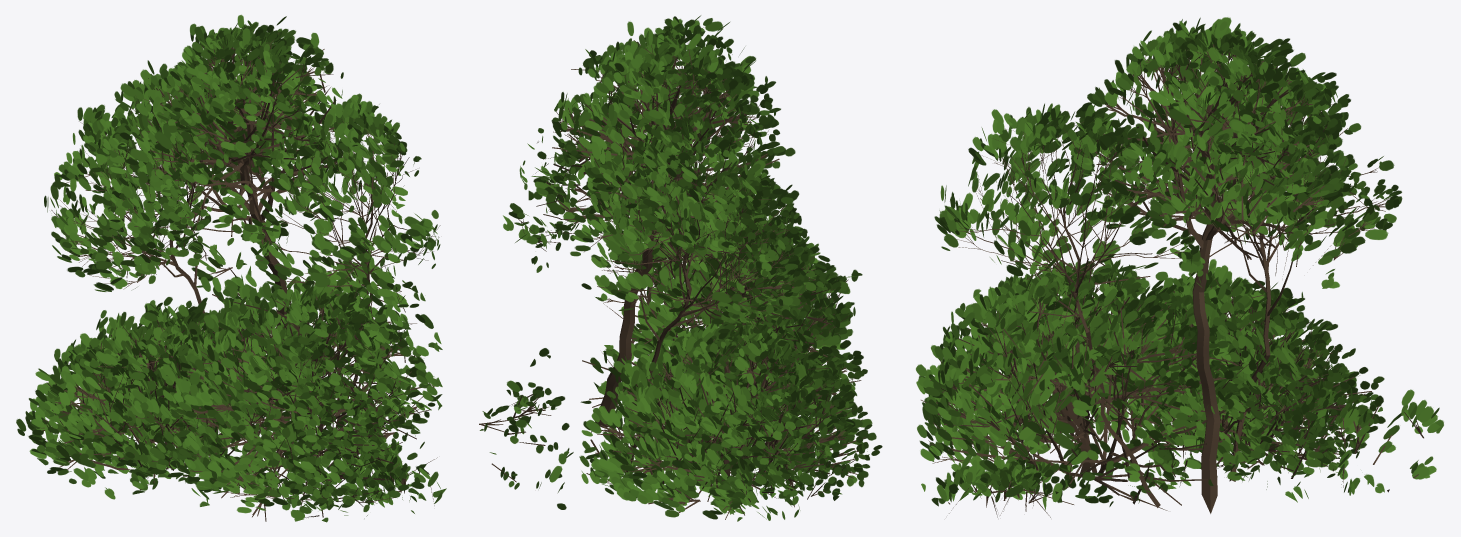
3 views of the same model, side by side, from view 1: azimuth 30°, elevation 25°; view 2: azimuth 150°, elevation 25°; view 3: azimuth 270°, elevation 25° (orthographic). The views are drawn at different scales.
Parts seen in each view (by area): view 1: oak 01.001_trunk_Mat.001_0.286; view 2: oak 01.001_trunk_Mat.001_0.286; view 3: oak 01.001_trunk_Mat.001_0.286.
Part boxes in pixels (box(x1,y1,x2,y2)): oak 01.001_trunk_Mat.001_0.286: box(16, 14, 446, 522); oak 01.001_trunk_Mat.001_0.286: box(479, 15, 882, 521); oak 01.001_trunk_Mat.001_0.286: box(916, 17, 1443, 517).
Bounding box in the file's own units: 2.77 × 3.68 × 3.77.
Materials: 2 (1 with a texture image).
